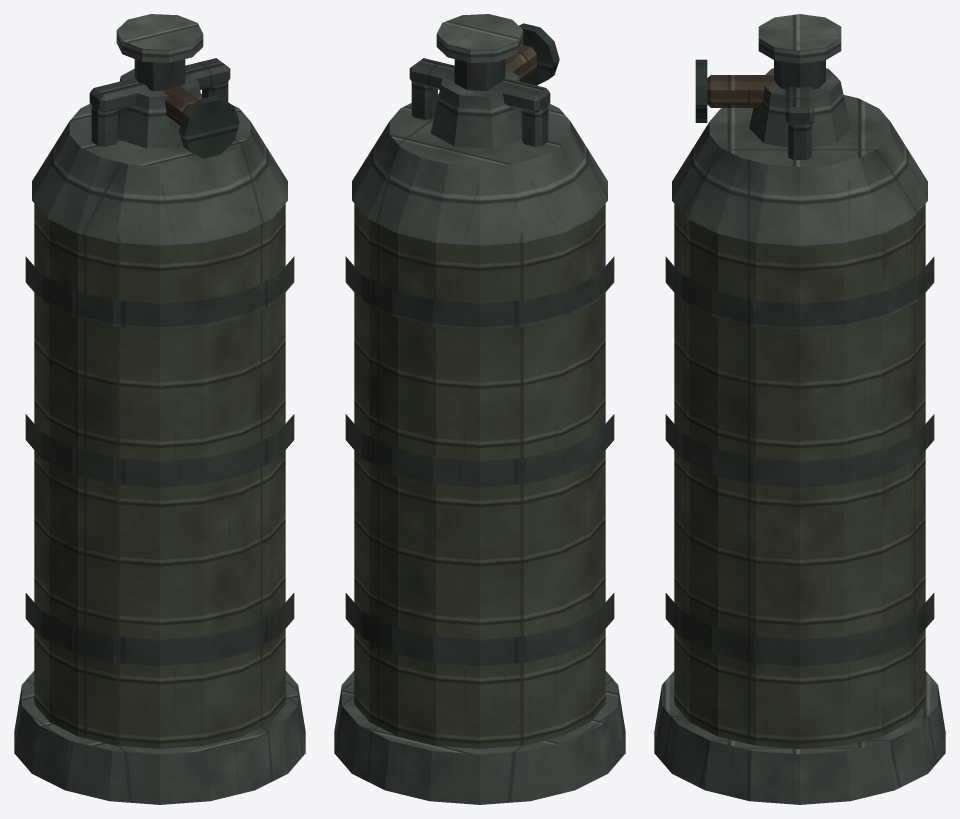
Rendered from canister.glb.
3 renders of one model, left to right at view 1: azimuth 30°, elevation 25°; view 2: azimuth 150°, elevation 25°; view 3: azimuth 270°, elevation 25°, orthographic.
Visible parts, largest first — view 1: canister; view 2: canister; view 3: canister.
Part boxes in pixels (box(x1,y1,x2,y2)): canister: box(14, 14, 305, 804); canister: box(334, 14, 625, 804); canister: box(654, 14, 945, 804).
Size of the model in its own units: 0.4529 by 1.2 by 0.446.
1 material, 1 textured.
